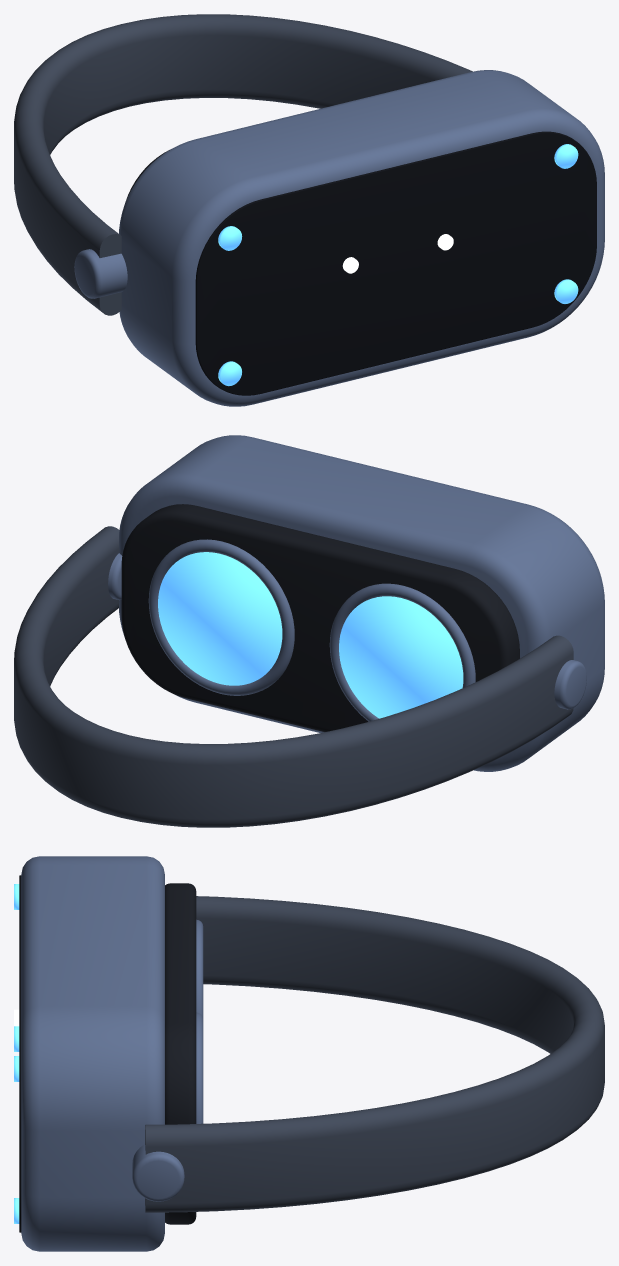
The model's file is headset.glb.
3 views of the same model, one above another, from view 1: azimuth 30°, elevation 25°; view 2: azimuth 150°, elevation 25°; view 3: azimuth 270°, elevation 25° (orthographic). The views are drawn at different scales.
Parts seen in each view (by area): view 1: Plate, Visor, Strap, Pod; view 2: Strap, Visor, Cushion, Lens_R, Lens_L, Lens_RRim, Lens_LRim, Pod, Pod.001; view 3: Strap, Visor, Cushion, Pod.001, Plate, Lens_RRim, Lens_LRim.
Boxes of the visible parts, x1,y1,x2,y2 form: Plate: (195, 131, 596, 395); Visor: (119, 70, 604, 406); Strap: (14, 14, 472, 315); Pod: (74, 249, 127, 298); Strap: (14, 526, 573, 827); Visor: (119, 435, 604, 771); Cushion: (121, 504, 519, 731); Lens_R: (158, 552, 282, 685); Lens_L: (339, 596, 463, 718); Lens_RRim: (148, 539, 294, 695); Lens_LRim: (329, 583, 475, 721); Pod: (554, 660, 586, 709); Pod.001: (108, 553, 122, 600); Strap: (145, 896, 604, 1212); Visor: (21, 856, 164, 1251); Cushion: (165, 883, 196, 1224); Pod.001: (132, 1144, 184, 1201); Plate: (19, 875, 21, 1232); Lens_RRim: (196, 1012, 203, 1123); Lens_LRim: (196, 919, 203, 1018).
Size of the model in its own units: 2.28 by 1 by 2.26.
